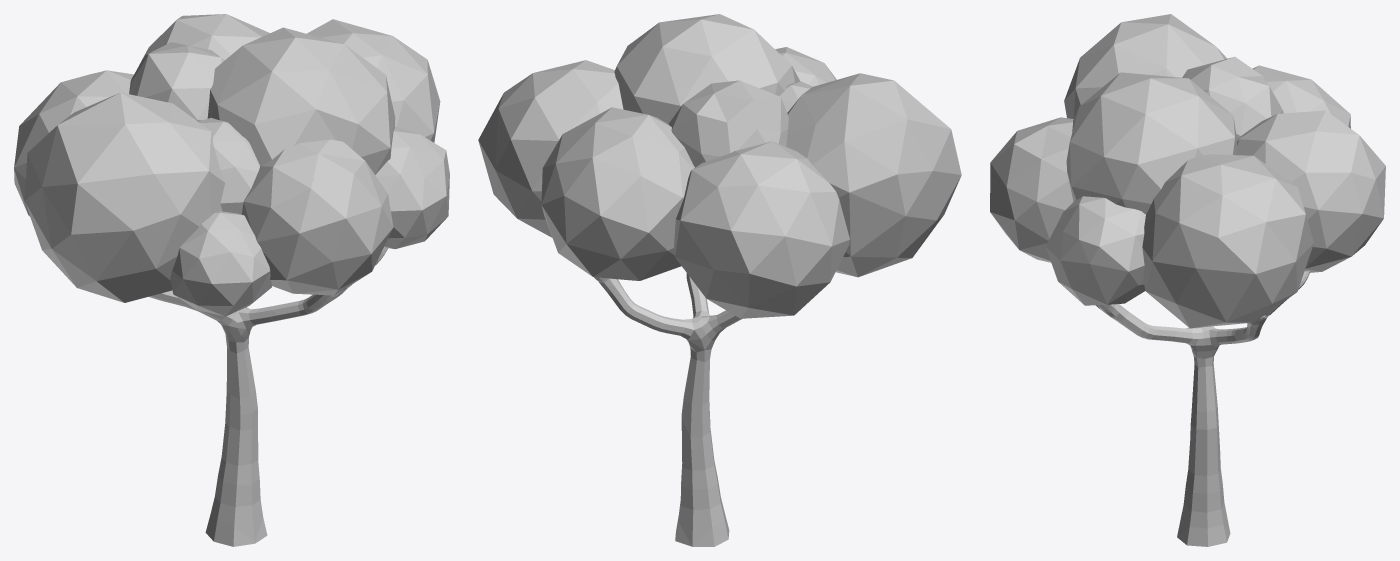
Rendered from Low_Poly_Tree1.fbx.
3 renders of one model, left to right at view 1: azimuth 30°, elevation 25°; view 2: azimuth 150°, elevation 25°; view 3: azimuth 270°, elevation 25°, orthographic. The views are drawn at different scales.
Parts seen in each view (by area): view 1: Tree1; view 2: Tree1; view 3: Tree1.
Boxes of the visible parts, bbox=[...] form: Tree1: bbox=[14, 14, 449, 546]; Tree1: bbox=[478, 14, 961, 546]; Tree1: bbox=[990, 14, 1385, 546].
Size of the model in its own units: 948 by 1092 by 832.
